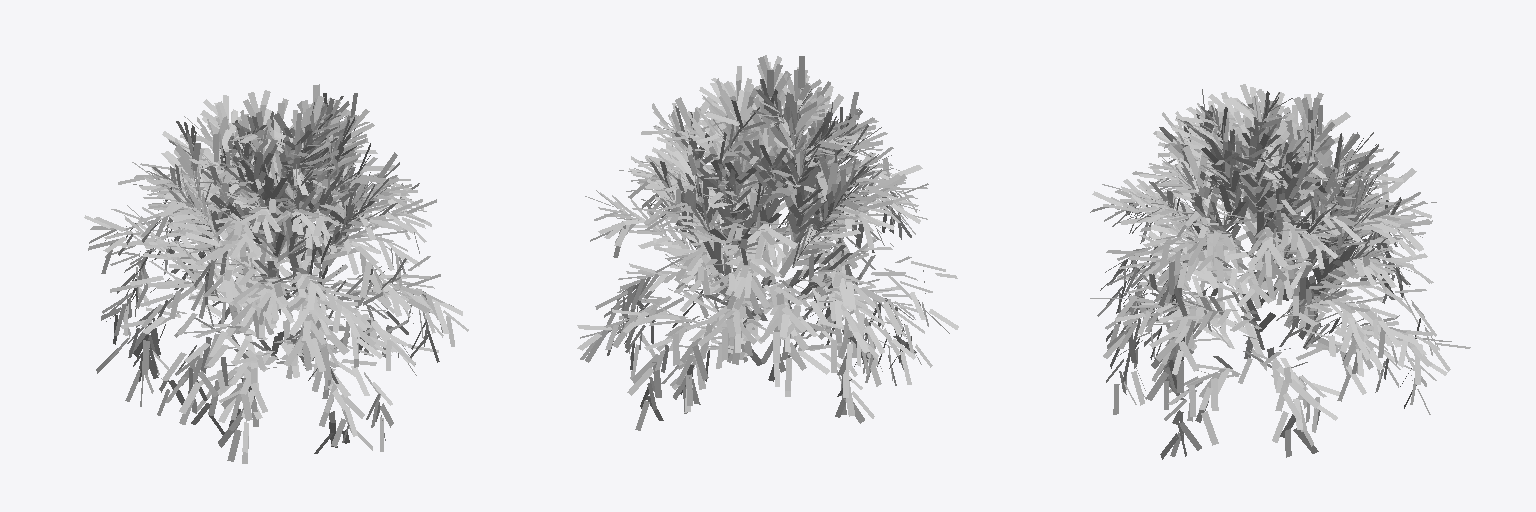
File: Tree_Leaves.obj
The picture shows the model from 3 angles: view 1: azimuth 30°, elevation 25°; view 2: azimuth 150°, elevation 25°; view 3: azimuth 270°, elevation 25°; orthographic projection.
Parts seen in each view (by area): view 1: leaves_leaves.001; view 2: leaves_leaves.001; view 3: leaves_leaves.001.
Boxes of the visible parts, box(x1,y1,x2,y2) form: leaves_leaves.001: box(84, 84, 468, 463); leaves_leaves.001: box(577, 55, 958, 430); leaves_leaves.001: box(1090, 84, 1470, 459).
Size of the model in its own units: 5.97 by 6.43 by 6.52.